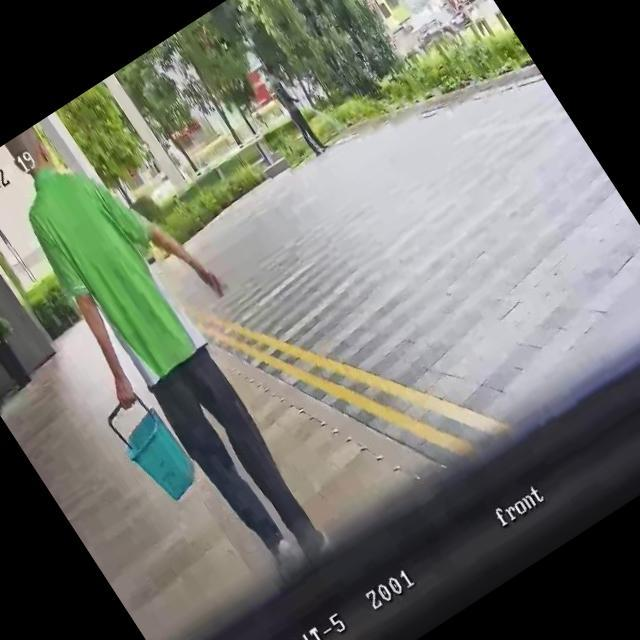person: (0, 85, 375, 601), (252, 53, 332, 159)
